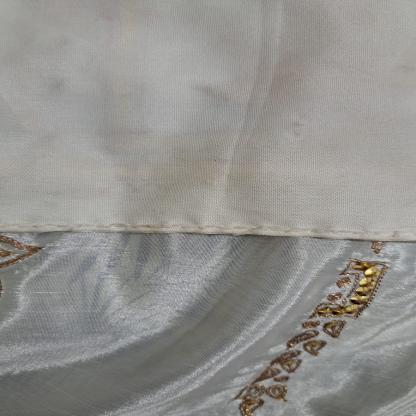spot: (192, 82, 240, 102)
